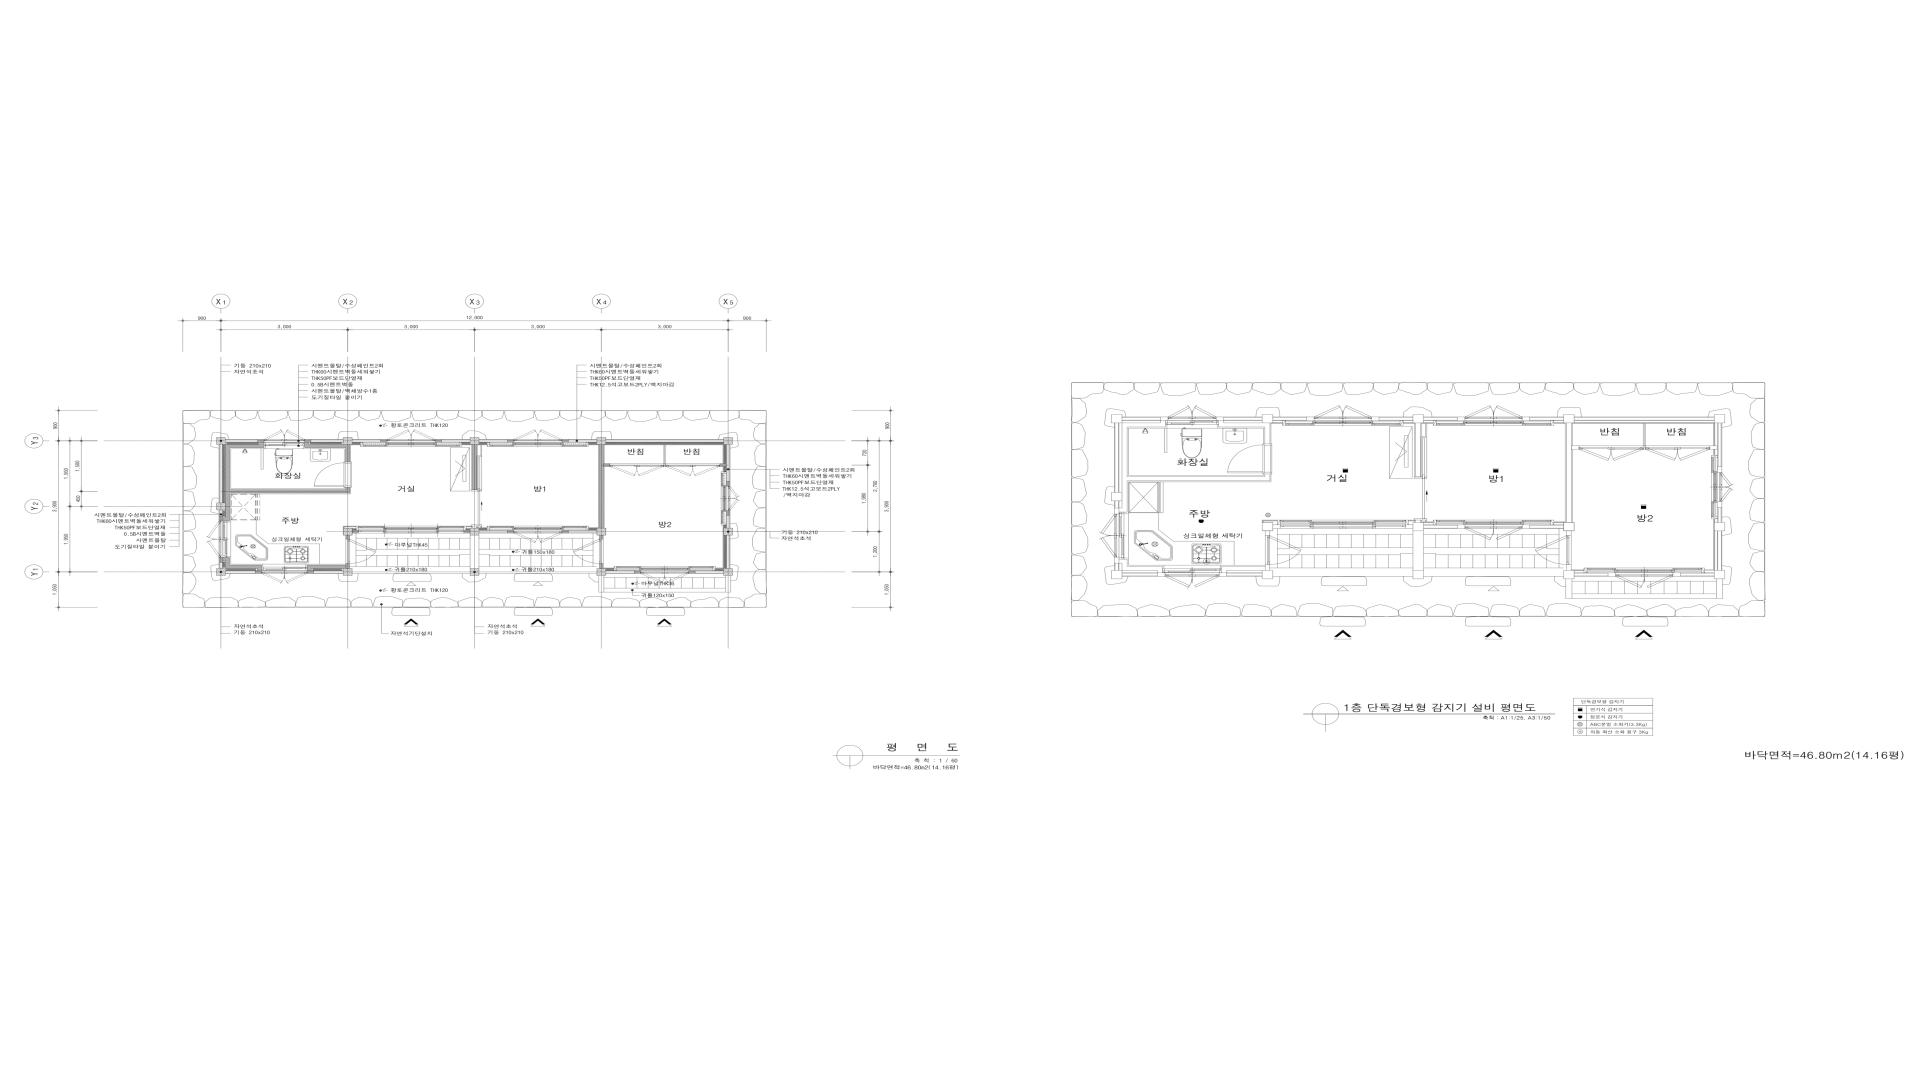door: (314, 463, 351, 488), (609, 463, 665, 477), (572, 539, 604, 563), (345, 539, 377, 563), (666, 464, 720, 477)
wall: (219, 439, 264, 521), (305, 439, 351, 463), (1114, 558, 1166, 576), (219, 558, 261, 574), (229, 488, 349, 493), (307, 563, 349, 574), (599, 444, 604, 527), (1220, 567, 1265, 576), (607, 439, 724, 442), (472, 444, 477, 491), (219, 444, 223, 502), (727, 444, 731, 481), (1122, 572, 1158, 576), (1226, 572, 1262, 576), (1680, 572, 1714, 576), (1530, 525, 1564, 529), (727, 535, 731, 568), (1424, 525, 1457, 529), (311, 439, 343, 443), (225, 439, 257, 443), (352, 439, 381, 443), (479, 439, 508, 443), (568, 439, 597, 443), (442, 439, 469, 443), (1412, 522, 1424, 531), (1714, 522, 1725, 531), (1564, 522, 1575, 531), (1262, 522, 1273, 531), (1575, 574, 1609, 576), (1714, 571, 1725, 579), (1564, 571, 1575, 579), (1262, 571, 1273, 579), (1112, 571, 1122, 579), (225, 571, 255, 574), (314, 571, 343, 574), (695, 571, 724, 574), (568, 530, 597, 533), (479, 530, 508, 533), (724, 527, 733, 535), (724, 568, 733, 576), (607, 571, 634, 574), (597, 568, 607, 576), (597, 527, 607, 535), (469, 527, 479, 535), (343, 527, 352, 535), (343, 568, 352, 576), (216, 568, 225, 576), (216, 502, 225, 510), (469, 438, 479, 444), (597, 438, 607, 444), (724, 438, 733, 444), (216, 438, 225, 444), (343, 438, 352, 444), (727, 516, 731, 527), (1567, 564, 1572, 571), (1265, 564, 1270, 571), (1673, 572, 1681, 576), (1522, 525, 1530, 529), (1457, 525, 1465, 529), (1273, 525, 1280, 529), (1114, 563, 1118, 571), (381, 439, 388, 443), (435, 439, 442, 443), (508, 439, 514, 443), (562, 439, 568, 443), (1609, 572, 1615, 576), (1406, 525, 1412, 529), (219, 510, 223, 516), (727, 481, 731, 487), (727, 510, 731, 516), (600, 563, 604, 568), (1567, 531, 1572, 535), (1265, 531, 1270, 535), (688, 571, 695, 574), (634, 571, 641, 574), (562, 530, 568, 533), (508, 530, 514, 533), (352, 530, 359, 533), (600, 535, 604, 539), (345, 535, 349, 539), (464, 530, 469, 533)
window: (356, 526, 467, 533), (641, 572, 690, 584), (514, 531, 562, 543), (264, 430, 305, 443), (207, 521, 222, 558), (386, 430, 435, 440), (514, 430, 562, 440), (261, 572, 307, 583), (360, 443, 463, 447), (487, 443, 589, 447), (487, 526, 589, 530), (615, 567, 716, 571), (720, 472, 727, 525), (728, 487, 738, 510), (261, 567, 307, 571), (223, 521, 227, 558), (264, 443, 305, 446)
